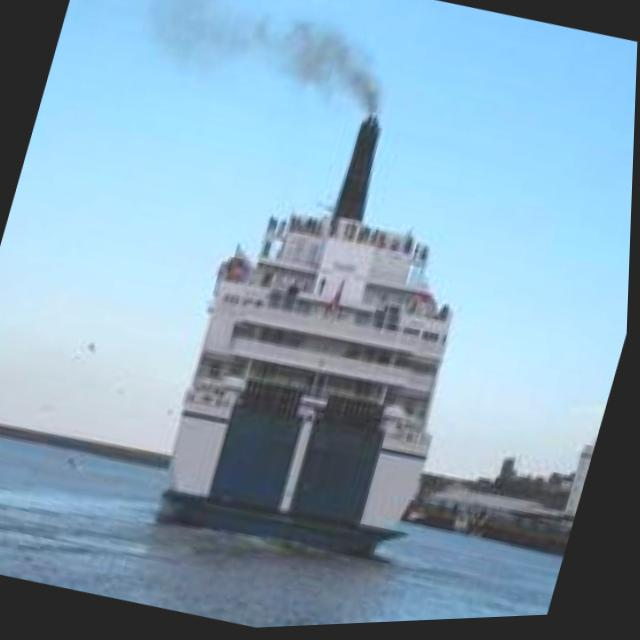ship2: (166, 121, 453, 562)
